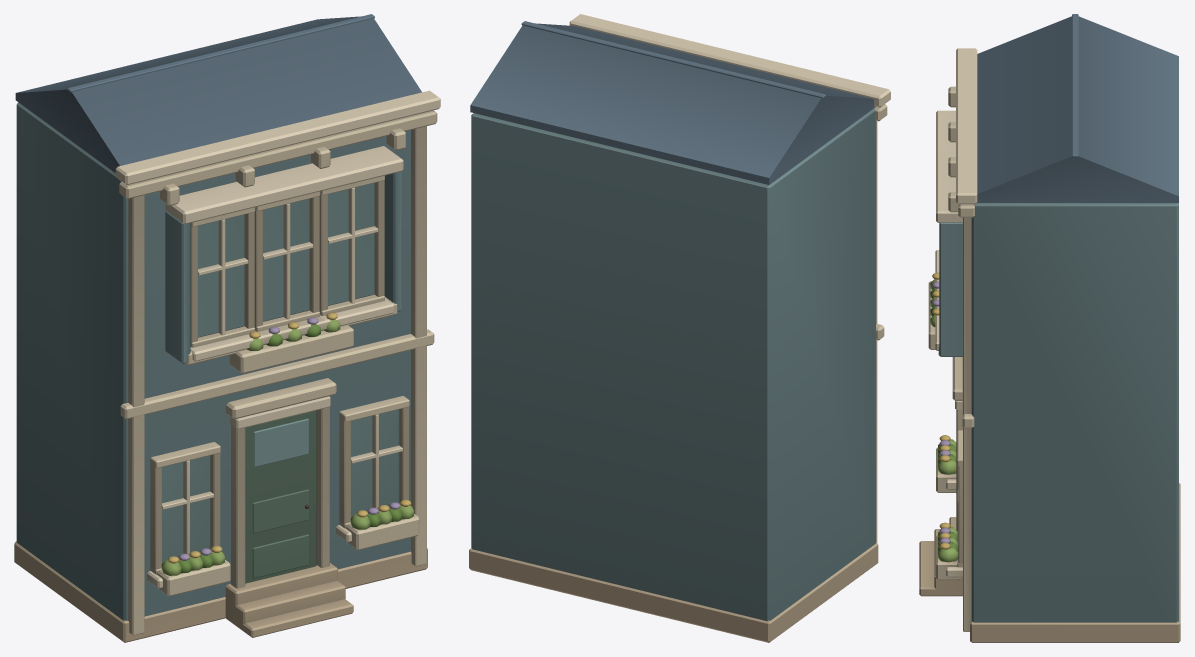
File: facade_sf_0.glb
3 views of the same model, side by side, from view 1: azimuth 30°, elevation 25°; view 2: azimuth 150°, elevation 25°; view 3: azimuth 270°, elevation 25° (orthographic). The views are drawn at different scales.
Visible parts, largest first — view 1: facade_sf_0; view 2: facade_sf_0; view 3: facade_sf_0.
Part boxes in pixels (x1=…): facade_sf_0: x1=14, y1=14, x2=440, y2=642; facade_sf_0: x1=469, y1=14, x2=890, y2=642; facade_sf_0: x1=919, y1=14, x2=1180, y2=642.
Bounding box in the file's own units: 4.18 × 6.51 × 3.15.
